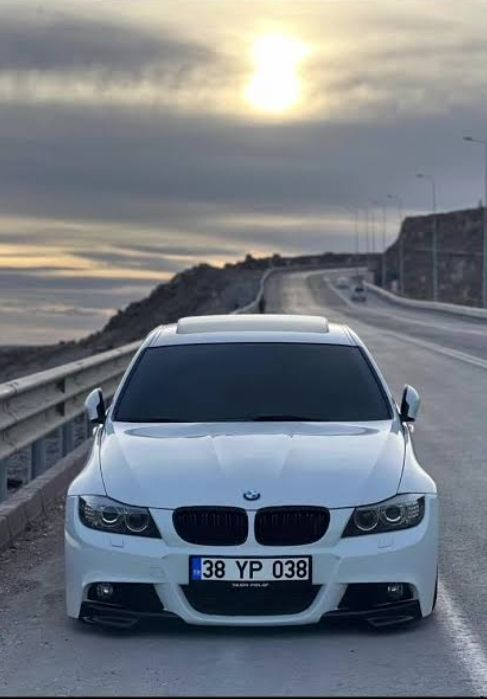plate: (190, 558, 315, 586)
